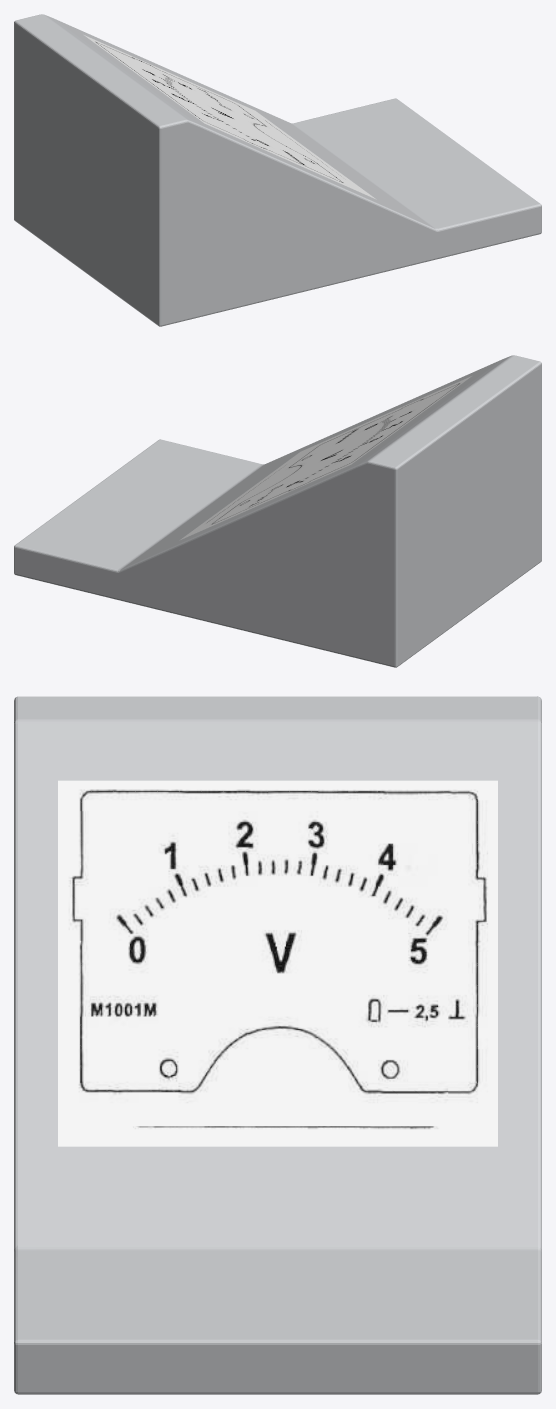
Rendered from Chemistry_Voltmetr.fbx.
3 views of the same model, one above another, from view 1: azimuth 30°, elevation 25°; view 2: azimuth 150°, elevation 25°; view 3: azimuth 270°, elevation 25° (orthographic). The views are drawn at different scales.
Visible parts, largest first — view 1: Voltmeter; view 2: Voltmeter; view 3: Voltmeter.
Part boxes in pixels (bbox=[...]): Voltmeter: bbox=[14, 14, 541, 326]; Voltmeter: bbox=[14, 355, 541, 667]; Voltmeter: bbox=[14, 696, 541, 1394].
Bounding box in the file's own units: 400 × 200 × 264.
